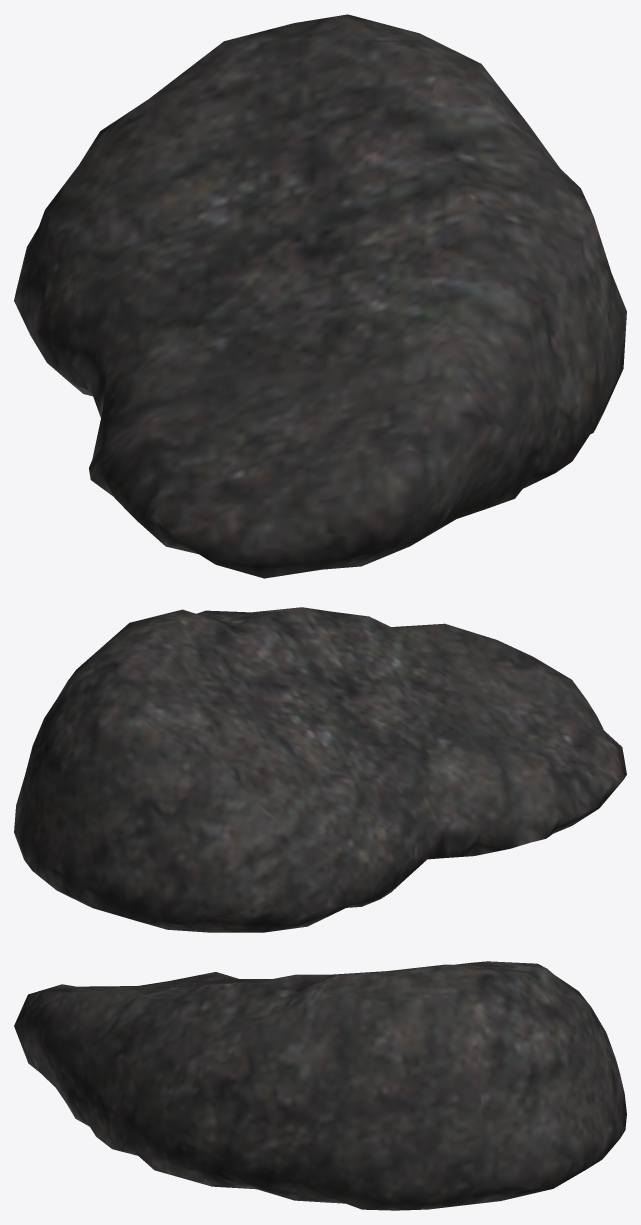
The model's file is rock 6.glb.
The picture shows the model from 3 angles, top to bottom: view 1: azimuth 30°, elevation 25°; view 2: azimuth 150°, elevation 25°; view 3: azimuth 270°, elevation 25°; orthographic projection. The views are drawn at different scales.
Parts seen in each view (by area): view 1: AR06; view 2: AR06; view 3: AR06.
Part boxes in pixels (box(x1,y1,x2,y2)): AR06: box(14, 14, 626, 578); AR06: box(14, 607, 626, 932); AR06: box(14, 961, 626, 1210).
Bounding box in the file's own units: 12.34 × 5.71 × 15.37.
1 material, 1 textured.
